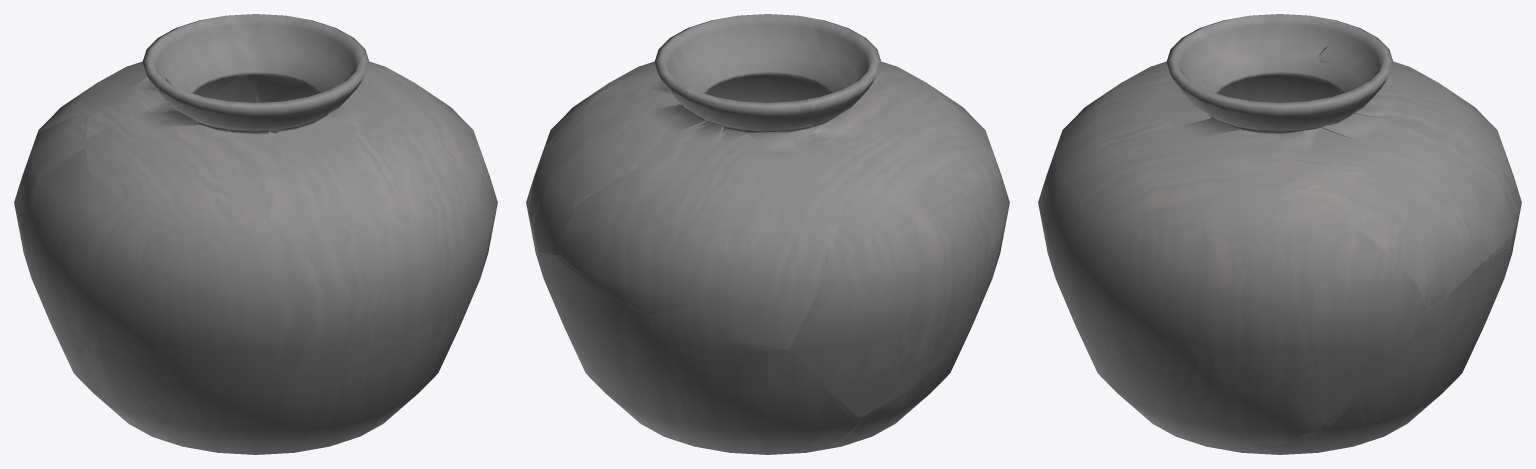
Rendered from Breakable_Ceramic_Vase_A_04.fbx.
3 views of the same model, side by side, from view 1: azimuth 30°, elevation 25°; view 2: azimuth 150°, elevation 25°; view 3: azimuth 270°, elevation 25° (orthographic).
Parts seen in each view (by area): view 1: Breakable_Ceramic_Vase_A_04_Body, Breakable_Ceramic_Vase_A_04_cell.010, Breakable_Ceramic_Vase_A_04_cell.001, Breakable_Ceramic_Vase_A_04_cell.003, Breakable_Ceramic_Vase_A_04_cell, Breakable_Ceramic_Vase_A_04_cell.009, Breakable_Ceramic_Vase_A_04_cell.014, Breakable_Ceramic_Vase_A_04_cell.007, Breakable_Ceramic_Vase_A_04_cell.005; view 2: Breakable_Ceramic_Vase_A_04_cell.001, Breakable_Ceramic_Vase_A_04_Body, Breakable_Ceramic_Vase_A_04_cell.010, Breakable_Ceramic_Vase_A_04_cell.006, Breakable_Ceramic_Vase_A_04_cell, Breakable_Ceramic_Vase_A_04_cell.014, Breakable_Ceramic_Vase_A_04_cell.009, Breakable_Ceramic_Vase_A_04_cell.003, Breakable_Ceramic_Vase_A_04_cell.007, Breakable_Ceramic_Vase_A_04_cell.002, Breakable_Ceramic_Vase_A_04_cell.004, Breakable_Ceramic_Vase_A_04_cell.012 (+3 smaller); view 3: Breakable_Ceramic_Vase_A_04_Body, Breakable_Ceramic_Vase_A_04_cell.005, Breakable_Ceramic_Vase_A_04_cell.014, Breakable_Ceramic_Vase_A_04_cell.006, Breakable_Ceramic_Vase_A_04_cell.001, Breakable_Ceramic_Vase_A_04_cell, Breakable_Ceramic_Vase_A_04_cell.003, Breakable_Ceramic_Vase_A_04_cell.004, Breakable_Ceramic_Vase_A_04_cell.012, Breakable_Ceramic_Vase_A_04_cell.007, Breakable_Ceramic_Vase_A_04_cell.009.
Boxes of the visible parts, x1,y1,x2,y2 form: Breakable_Ceramic_Vase_A_04_Body: (31, 14, 497, 454); Breakable_Ceramic_Vase_A_04_cell.010: (14, 116, 102, 354); Breakable_Ceramic_Vase_A_04_cell.001: (37, 61, 256, 132); Breakable_Ceramic_Vase_A_04_cell.003: (86, 53, 230, 150); Breakable_Ceramic_Vase_A_04_cell: (241, 14, 314, 102); Breakable_Ceramic_Vase_A_04_cell.009: (116, 20, 210, 102); Breakable_Ceramic_Vase_A_04_cell.014: (288, 16, 400, 91); Breakable_Ceramic_Vase_A_04_cell.007: (271, 59, 374, 146); Breakable_Ceramic_Vase_A_04_cell.005: (400, 75, 472, 129); Breakable_Ceramic_Vase_A_04_cell.001: (556, 154, 848, 348); Breakable_Ceramic_Vase_A_04_Body: (528, 14, 1009, 449); Breakable_Ceramic_Vase_A_04_cell.010: (791, 169, 1001, 417); Breakable_Ceramic_Vase_A_04_cell.006: (537, 251, 853, 454); Breakable_Ceramic_Vase_A_04_cell: (532, 69, 705, 249); Breakable_Ceramic_Vase_A_04_cell.014: (529, 20, 722, 237); Breakable_Ceramic_Vase_A_04_cell.009: (715, 97, 826, 162); Breakable_Ceramic_Vase_A_04_cell.003: (809, 54, 891, 177); Breakable_Ceramic_Vase_A_04_cell.007: (716, 14, 821, 71); Breakable_Ceramic_Vase_A_04_cell.002: (705, 75, 830, 102); Breakable_Ceramic_Vase_A_04_cell.004: (628, 87, 722, 170); Breakable_Ceramic_Vase_A_04_cell.012: (829, 31, 871, 81); Breakable_Ceramic_Vase_A_04_Body: (1038, 14, 1516, 454); Breakable_Ceramic_Vase_A_04_cell.005: (1217, 172, 1426, 447); Breakable_Ceramic_Vase_A_04_cell.014: (1234, 91, 1435, 303); Breakable_Ceramic_Vase_A_04_cell.006: (1268, 231, 1516, 454); Breakable_Ceramic_Vase_A_04_cell.001: (1388, 61, 1521, 260); Breakable_Ceramic_Vase_A_04_cell: (1322, 74, 1479, 305); Breakable_Ceramic_Vase_A_04_cell.003: (1218, 14, 1346, 61); Breakable_Ceramic_Vase_A_04_cell.004: (1353, 70, 1449, 147); Breakable_Ceramic_Vase_A_04_cell.012: (1183, 23, 1232, 87); Breakable_Ceramic_Vase_A_04_cell.007: (1173, 63, 1240, 138); Breakable_Ceramic_Vase_A_04_cell.009: (1319, 23, 1401, 102).
Bounding box in the file's own units: 0.4113 × 0.3371 × 0.4113.
